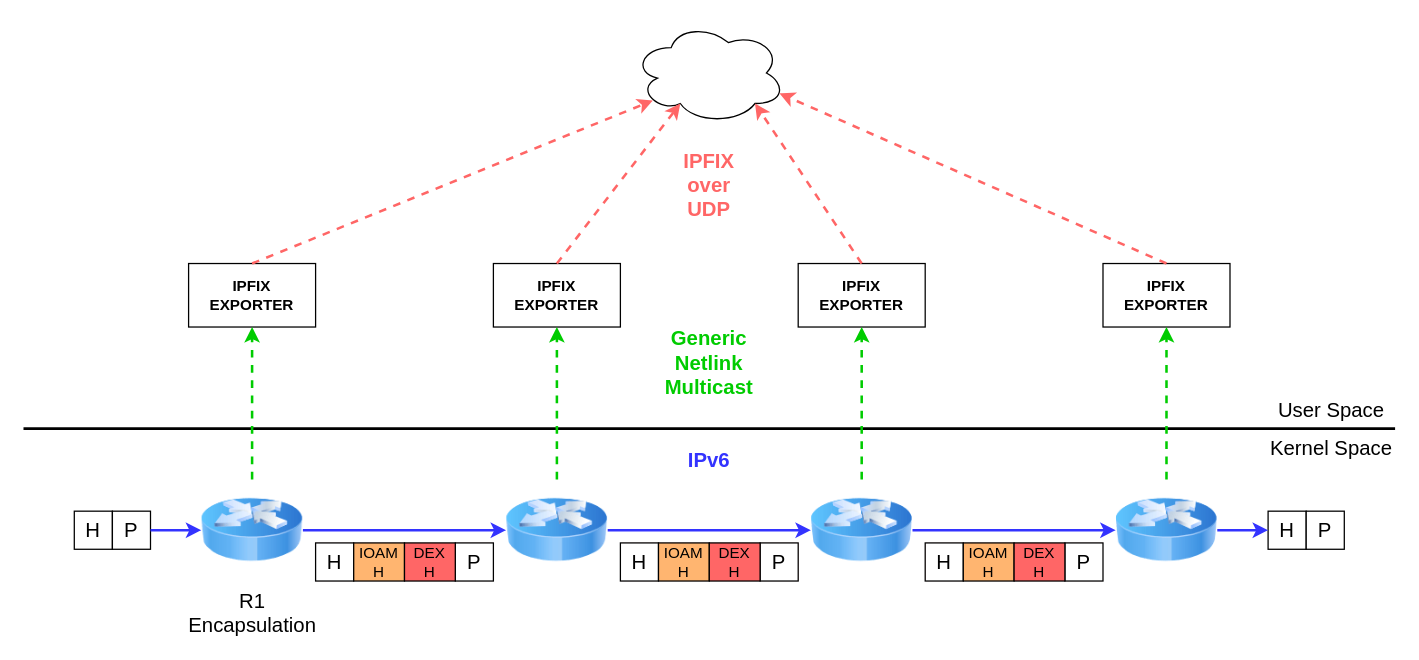
This 1419x660 diagram has some shape labels left out. The shapes that lost their labels are listed below. From the top down, each one's box as (x1, y1, x2, y2) in pixels, then its label:
(632, 21, 785, 124): IPFIX COLLECTOR
(505, 479, 607, 580): R2 Transit
(810, 479, 912, 580): R3 Transit
(1115, 479, 1217, 580): R4 Decapsulation
